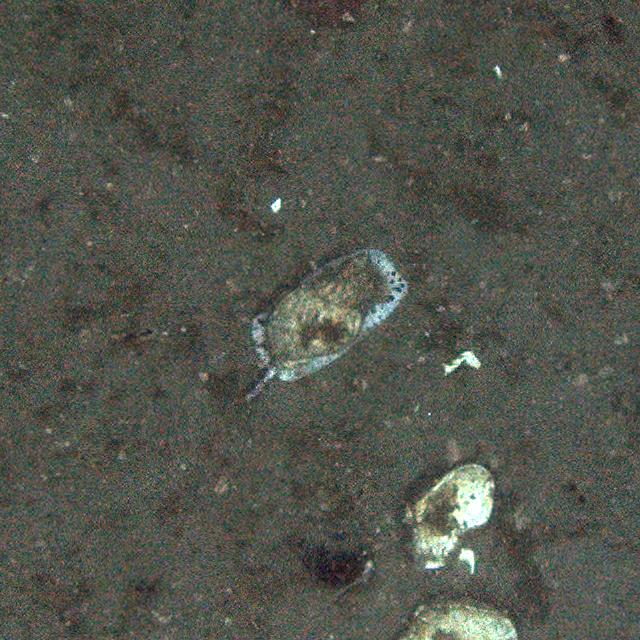whelk: (261, 252, 378, 362)
